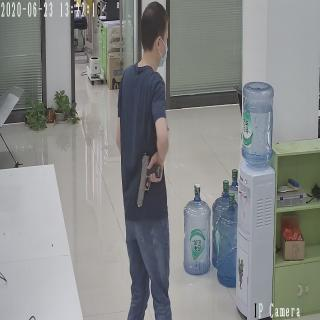gun: (138, 151, 161, 209)
